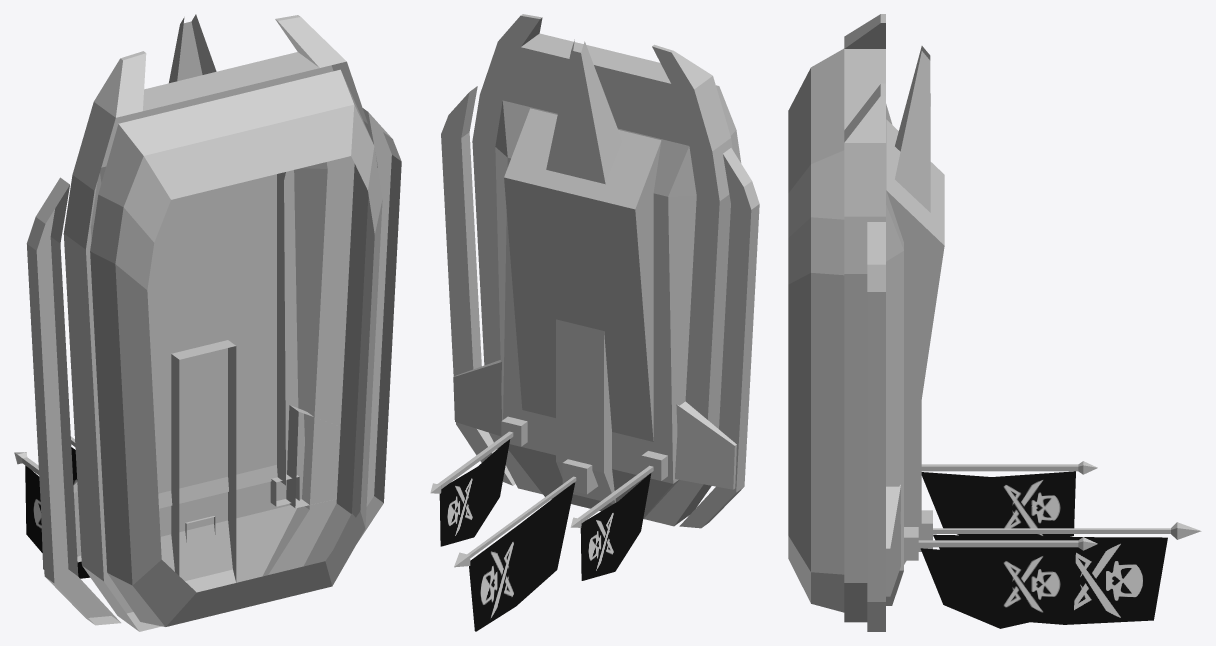
The model's file is pirate_guide_my_ship_5.fbx.
The picture shows the model from 3 angles, left to right: view 1: azimuth 30°, elevation 25°; view 2: azimuth 150°, elevation 25°; view 3: azimuth 270°, elevation 25°; orthographic projection. The views are drawn at different scales.
Visible parts, largest first — view 1: Cube.408; view 2: Cube.408; view 3: Cube.408.
Boxes of the visible parts, x1=… form: Cube.408: x1=14, y1=14, x2=401, y2=631; Cube.408: x1=430, y1=14, x2=759, y2=631; Cube.408: x1=788, y1=14, x2=1201, y2=631.
Bounding box in the file's own units: 407 × 652 × 424.
